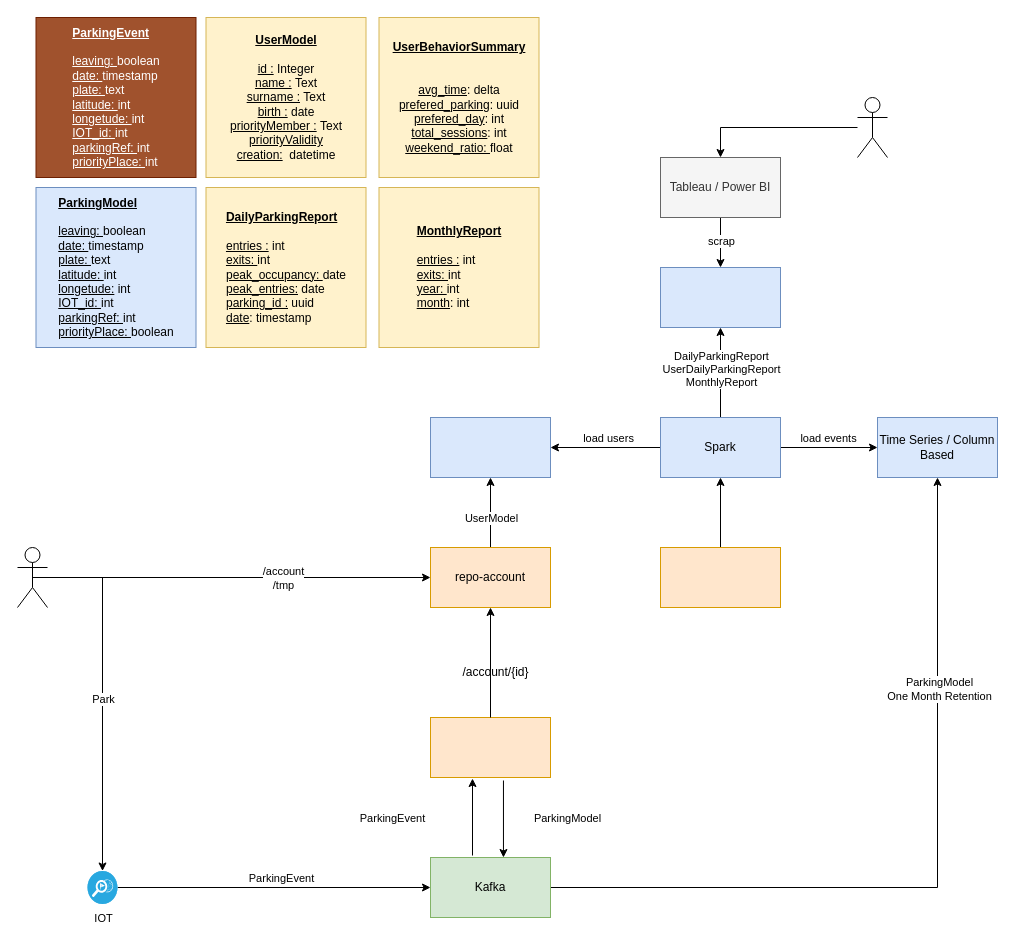
Image size: 1015x942. Some labels were removed from this diagram. The centre of each missing label's shape, as x and y in pixels:
"Client" belongs at (x=32, y=577).
"Data Analyst" belongs at (x=872, y=127).
"Relational DB" belongs at (x=490, y=447).
"Relational DB / Column Based" belongs at (x=720, y=297).
"srvc-event" belongs at (x=490, y=747).
"srvc-stats (pyspark)" belongs at (x=720, y=577).
